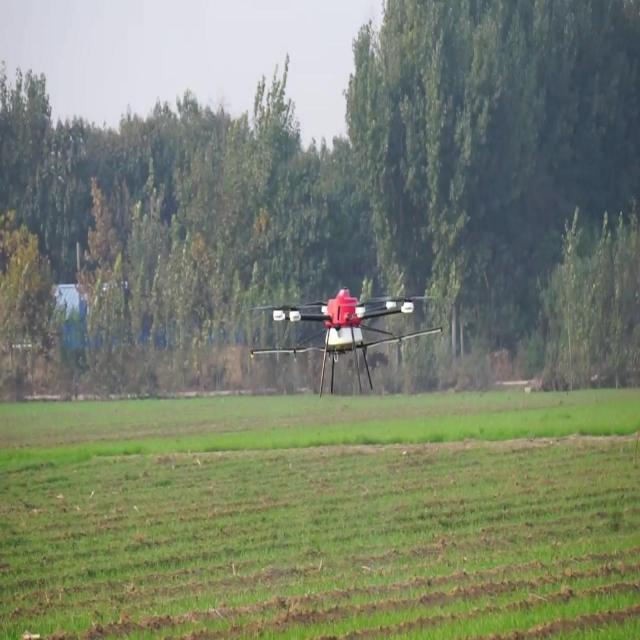UAV: (250, 288, 443, 398)
